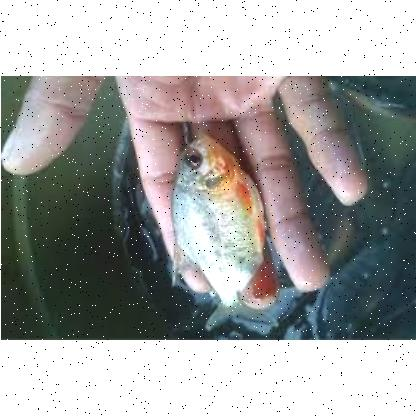ikan-pacu: (172, 132, 268, 306)
